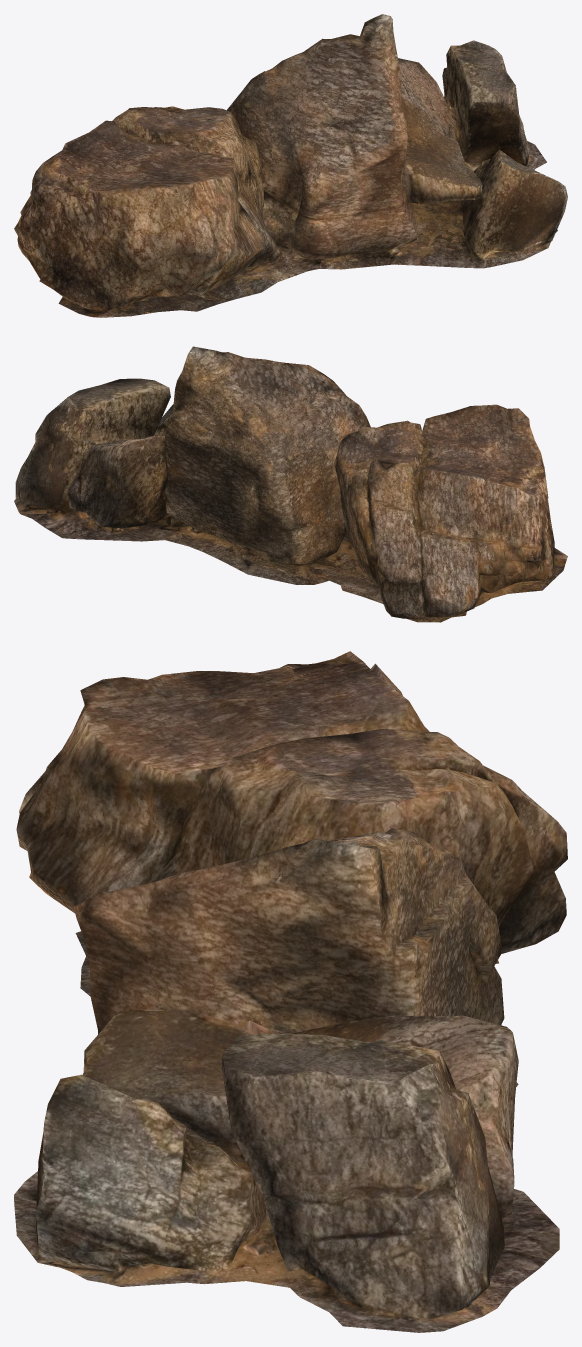
File: boulder_a.glb
3 views of the same model, one above another, from view 1: azimuth 30°, elevation 25°; view 2: azimuth 150°, elevation 25°; view 3: azimuth 270°, elevation 25° (orthographic). The views are drawn at different scales.
Visible parts, largest first — view 1: boulder_02; view 2: boulder_02; view 3: boulder_02.
Part boxes in pixels (bbox=[...]): boulder_02: bbox=[14, 14, 567, 317]; boulder_02: bbox=[14, 346, 567, 622]; boulder_02: bbox=[14, 651, 567, 1332].
Bounding box in the file's own units: 2.52 × 0.8788 × 1.23.
1 material, 1 textured.
